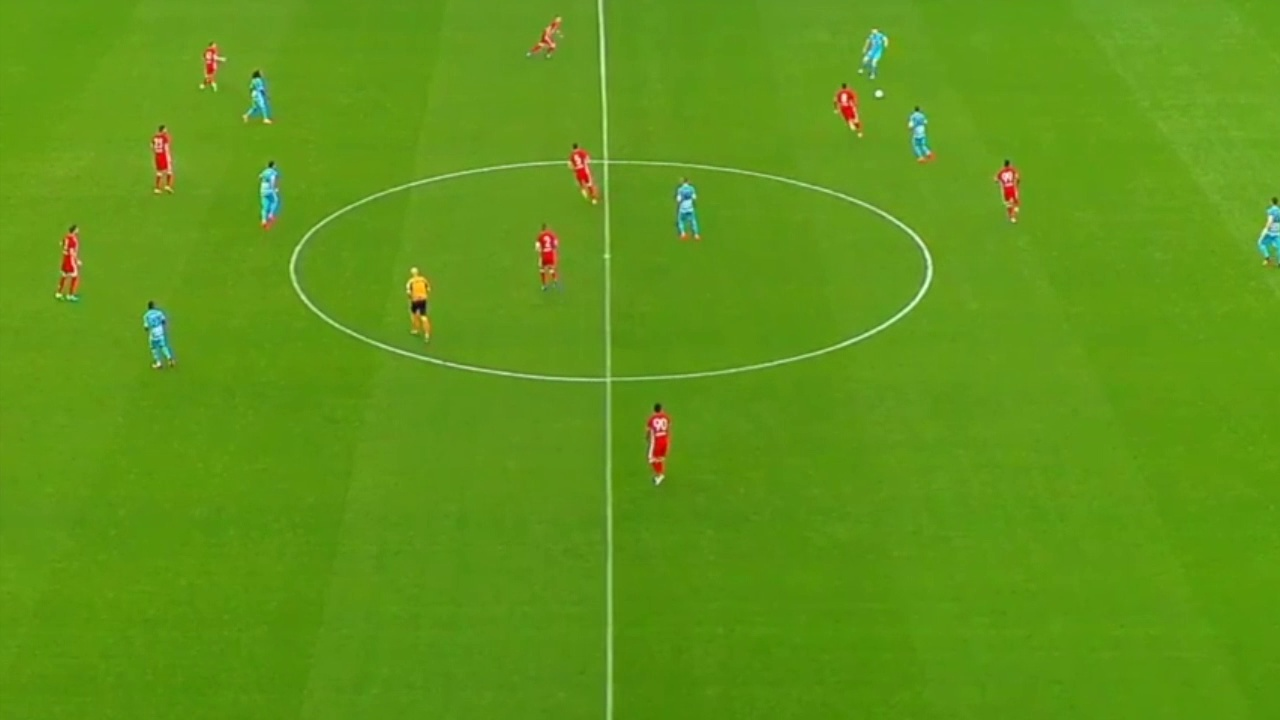ball: (872, 86, 886, 100)
person: (48, 221, 87, 302), (139, 300, 177, 370), (643, 399, 674, 481), (566, 141, 605, 205), (148, 120, 177, 192), (240, 66, 274, 123), (998, 157, 1027, 220), (903, 105, 935, 162), (535, 225, 563, 289), (529, 16, 571, 58), (860, 21, 889, 79), (834, 81, 864, 136), (255, 162, 277, 231), (195, 42, 224, 94), (676, 178, 702, 233)
